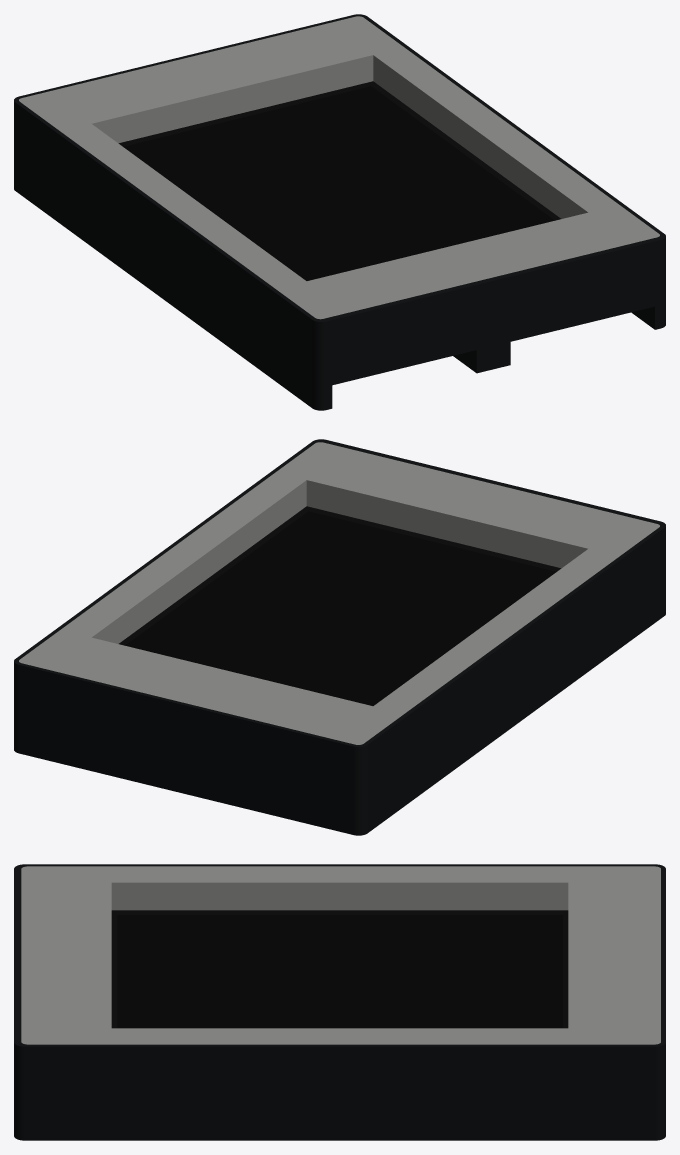
Rendered from big-screen.glb.
3 views of the same model, one above another, from view 1: azimuth 30°, elevation 25°; view 2: azimuth 150°, elevation 25°; view 3: azimuth 270°, elevation 25° (orthographic). The views are drawn at different scales.
Visible parts, largest first — view 1: black, lid_grey, screen_art, gloss; view 2: black, lid_grey, screen_art, gloss; view 3: black, lid_grey, screen_art, gloss.
Part boxes in pixels (x1=…): black: x1=14, y1=14, x2=665, y2=410; lid_grey: x1=19, y1=16, x2=659, y2=319; screen_art: x1=123, y1=86, x2=554, y2=280; gloss: x1=118, y1=81, x2=560, y2=220; black: x1=14, y1=439, x2=665, y2=835; lid_grey: x1=19, y1=442, x2=659, y2=744; screen_art: x1=125, y1=511, x2=556, y2=705; gloss: x1=119, y1=506, x2=561, y2=645; black: x1=14, y1=864, x2=665, y2=1140; lid_grey: x1=21, y1=866, x2=660, y2=1044; screen_art: x1=117, y1=915, x2=562, y2=1028; gloss: x1=111, y1=910, x2=568, y2=1028.
Bounding box in the file's own units: 0.0395 × 0.0095 × 0.0597.
Materials: 9 (1 with a texture image).
